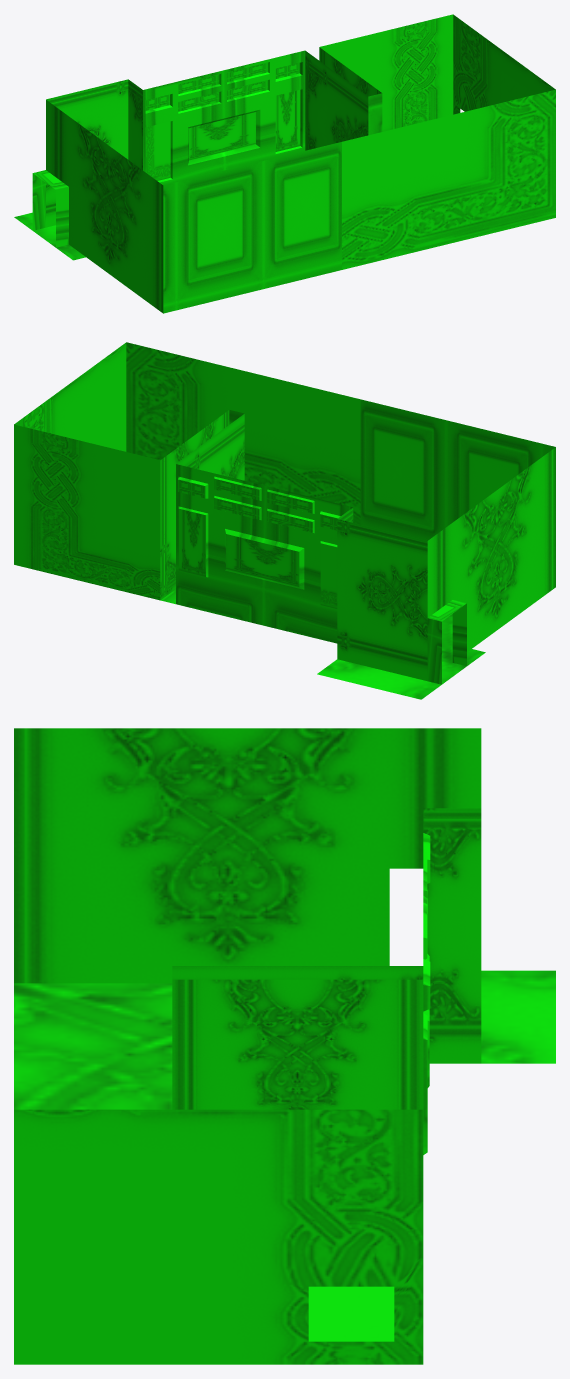
The model's file is 응접실.fbx.
3 views of the same model, one above another, from view 1: azimuth 30°, elevation 25°; view 2: azimuth 150°, elevation 25°; view 3: azimuth 270°, elevation 25° (orthographic). The views are drawn at different scales.
Parts seen in each view (by area): view 1: 응접실 벽, 응접실 벽 3, 응접실벽, 응접실 바닥; view 2: 응접실 벽, 응접실 벽 3, 응접실벽, 응접실 바닥; view 3: 응접실 벽, 응접실 바닥, 응접실 벽 3.
Boxes of the visible parts, bbox=[...] form: 응접실 벽: bbox=[32, 14, 555, 313]; 응접실 벽 3: bbox=[143, 50, 305, 185]; 응접실벽: bbox=[145, 62, 300, 180]; 응접실 바닥: bbox=[14, 212, 85, 260]; 응접실 벽: bbox=[14, 342, 555, 684]; 응접실 벽 3: bbox=[176, 464, 352, 643]; 응접실벽: bbox=[178, 478, 337, 608]; 응접실 바닥: bbox=[317, 614, 485, 699]; 응접실 벽: bbox=[14, 728, 481, 1364]; 응접실 바닥: bbox=[14, 970, 555, 1341]; 응접실 벽 3: bbox=[423, 833, 430, 1154].
Size of the model in its own units: 656 by 198 by 381.
